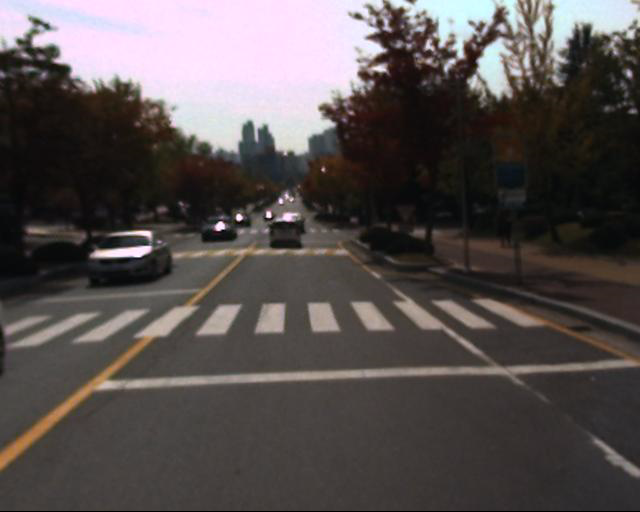person: (490, 205, 520, 252)
